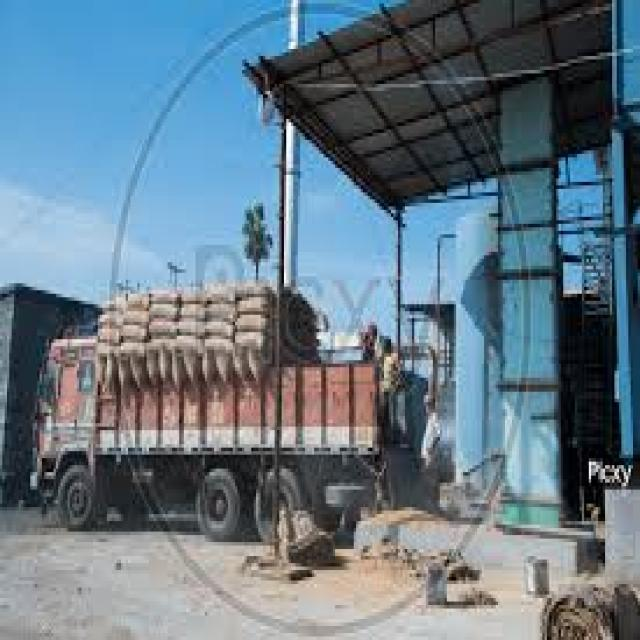uncovered: (34, 284, 376, 544)
